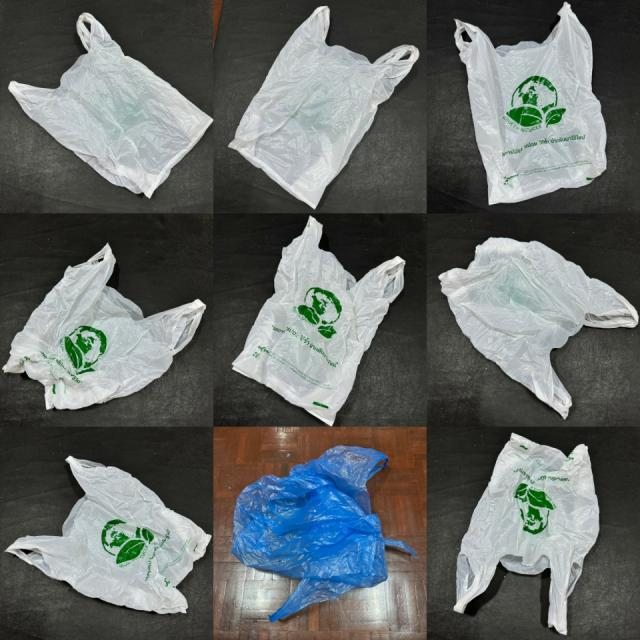Single-layer Plastic: (229, 6, 419, 208), (9, 12, 212, 197), (439, 238, 639, 418), (232, 216, 405, 424), (231, 445, 418, 622), (4, 245, 205, 409), (6, 456, 211, 613), (455, 2, 606, 204), (454, 434, 599, 633)
